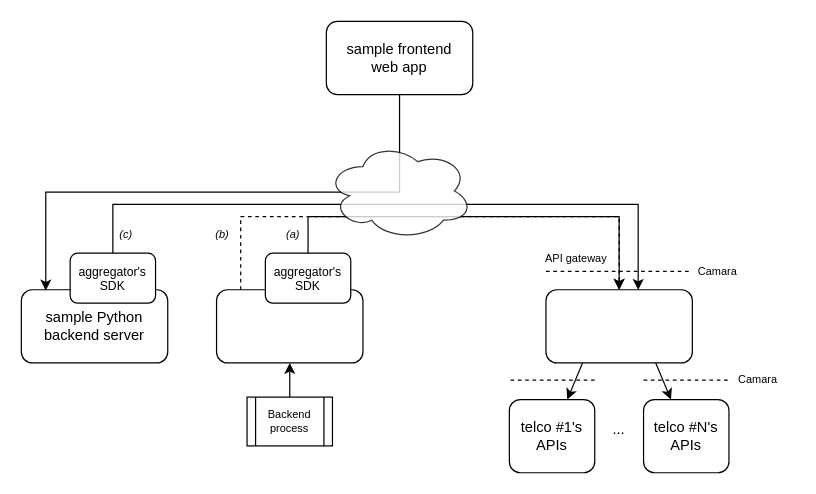
Image size: 816x494. Some labels were removed from this diagram. Here are the shapes that lost their labels. From the top down, the centre of each, then its label:
At [399,190]: "Internet".
At [289,326]: "sample Python backend script".
At [618,326]: "aggregator's API exposure platform".
